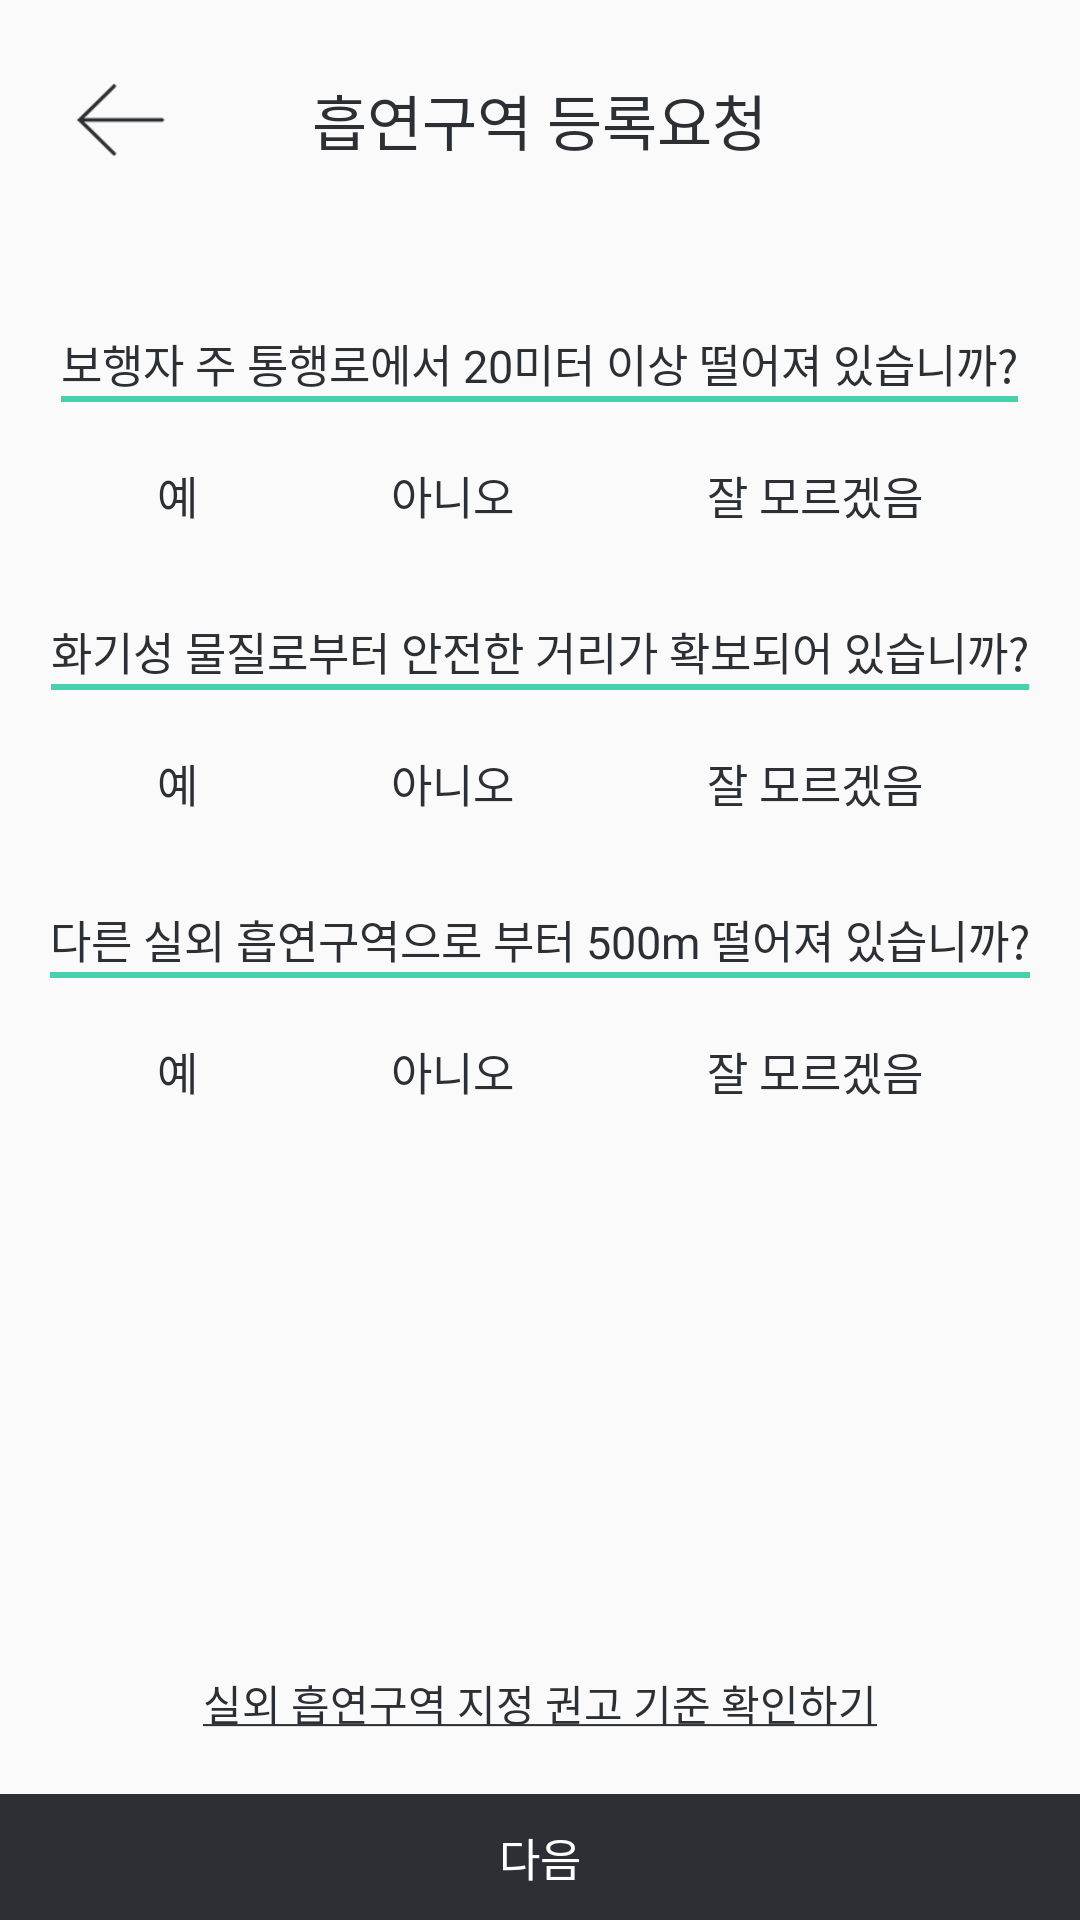

Icons on this 1080px×1920px Android screen, each with the point to tap as (x=x, y=y):
back arrow: (x=121, y=120)
